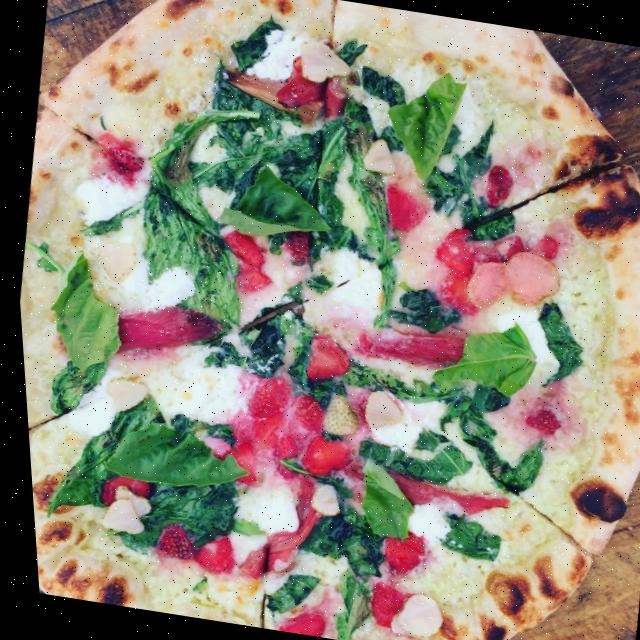basil: (95, 416, 250, 496), (212, 156, 341, 247), (375, 65, 471, 182), (419, 311, 539, 399), (48, 276, 125, 368), (343, 456, 418, 544)
pizza: (0, 0, 640, 640)
